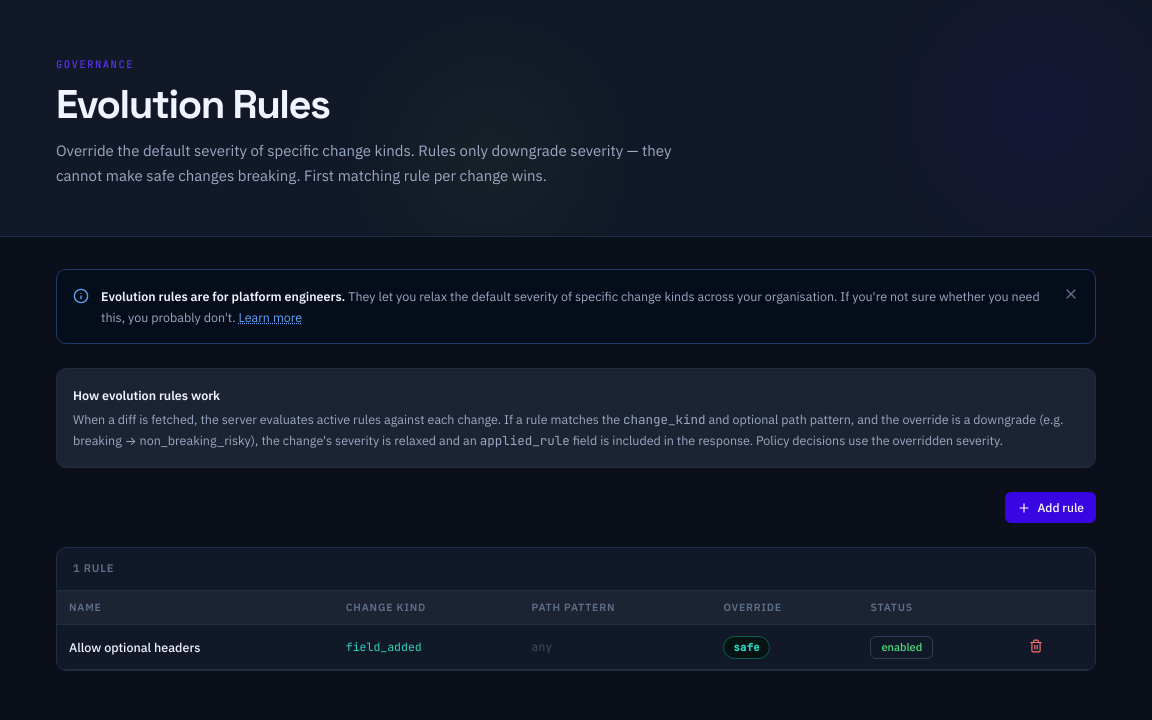
Test: EvolutionRulesPage destructive-action safety › surfaces a toggle failure
Step 1. Click the button "enabled" → x=902, y=647, box [870,636,933,659]
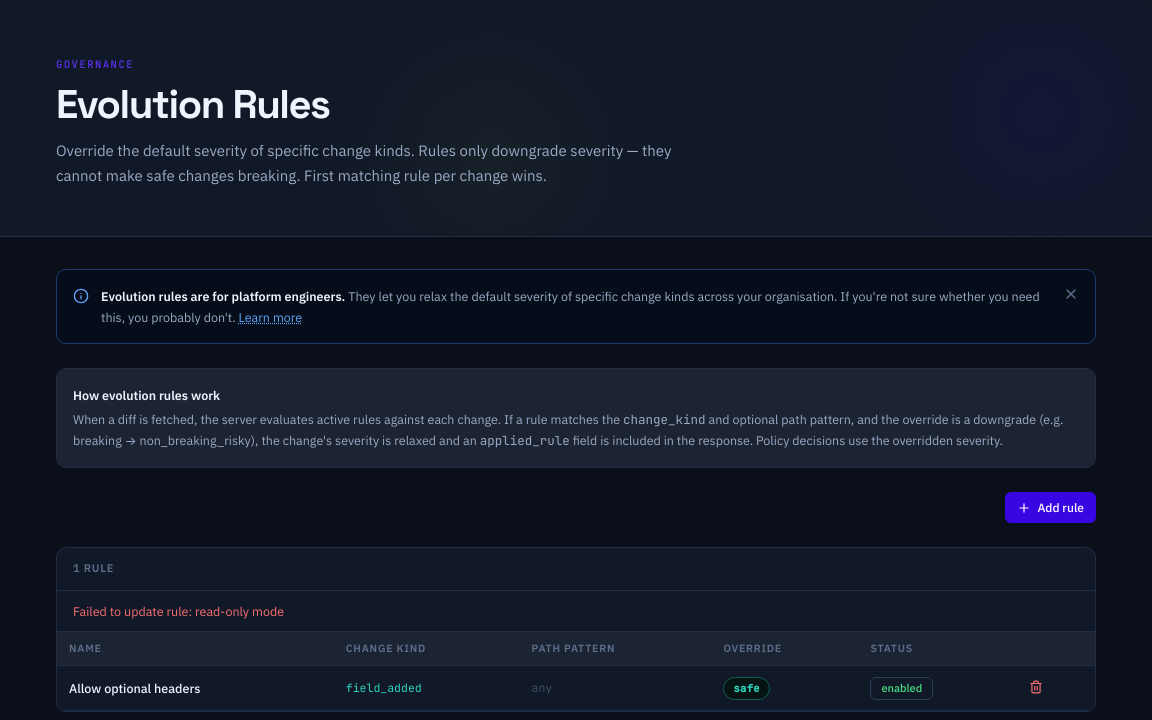
Check: the text "Failed to update rule: read-only mode" is shown, box [57,591,1095,632]
